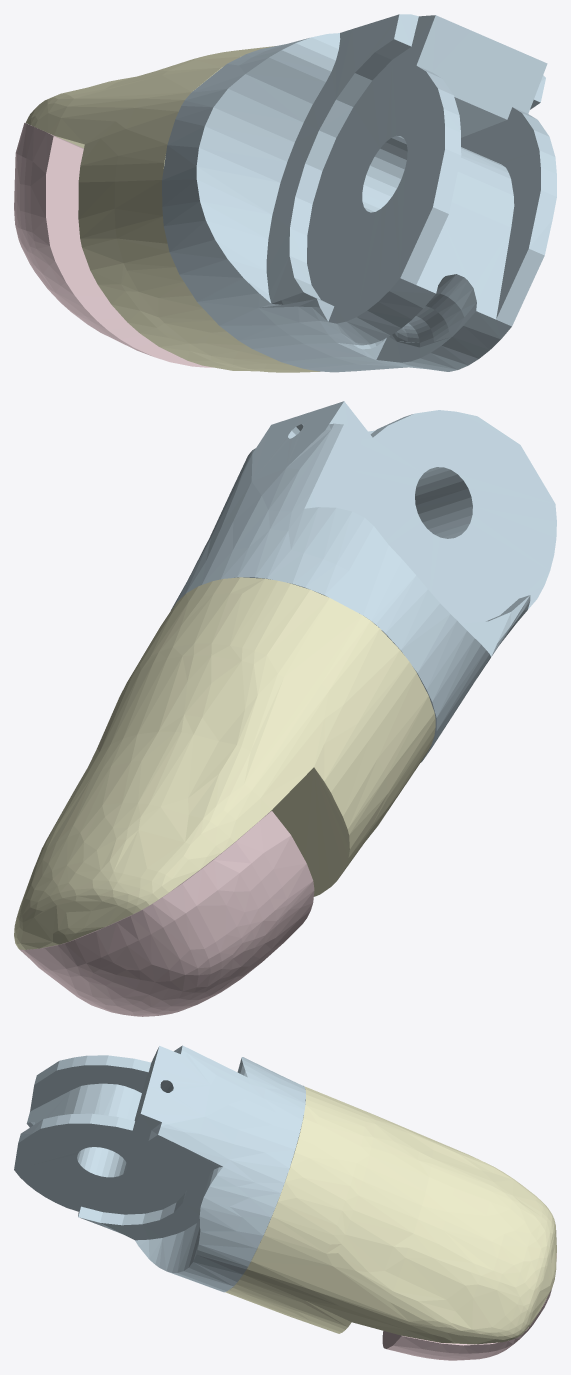
Rendered from i02_leftHand_majeureTip_visual.obj.light.glb.
3 views of the same model, one above another, from view 1: azimuth 30°, elevation 25°; view 2: azimuth 150°, elevation 25°; view 3: azimuth 270°, elevation 25° (orthographic). The views are drawn at different scales.
Bounding box in the file's own units: 0.158 × 0.2377 × 0.3769.
